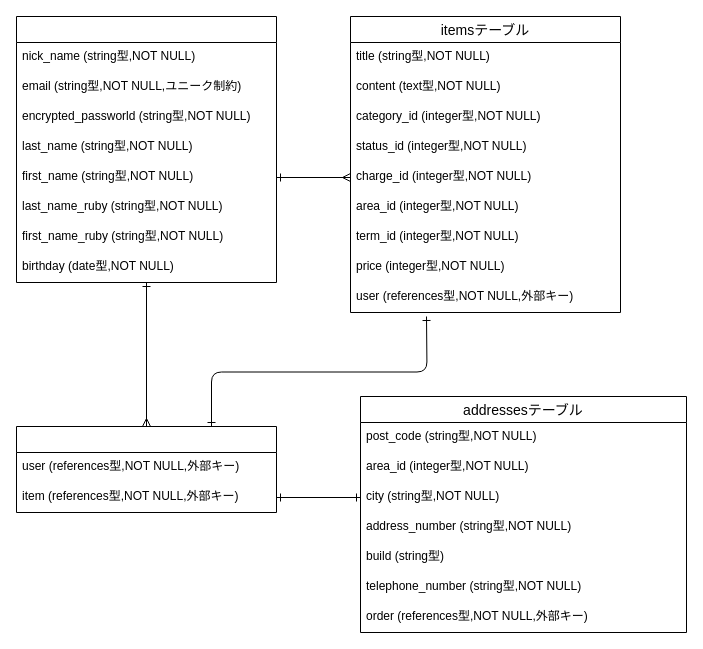
Some shapes in this 703 by 649 pixel diagram are drawn without their labels. Each missing label, with the box of its shape:
ordersテーブル: (16, 426, 276, 512)
usersテーブル: (16, 16, 276, 282)
